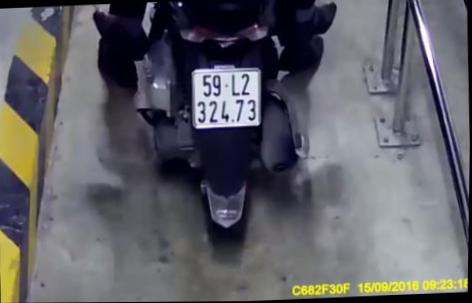LP: (189, 65, 264, 130)
